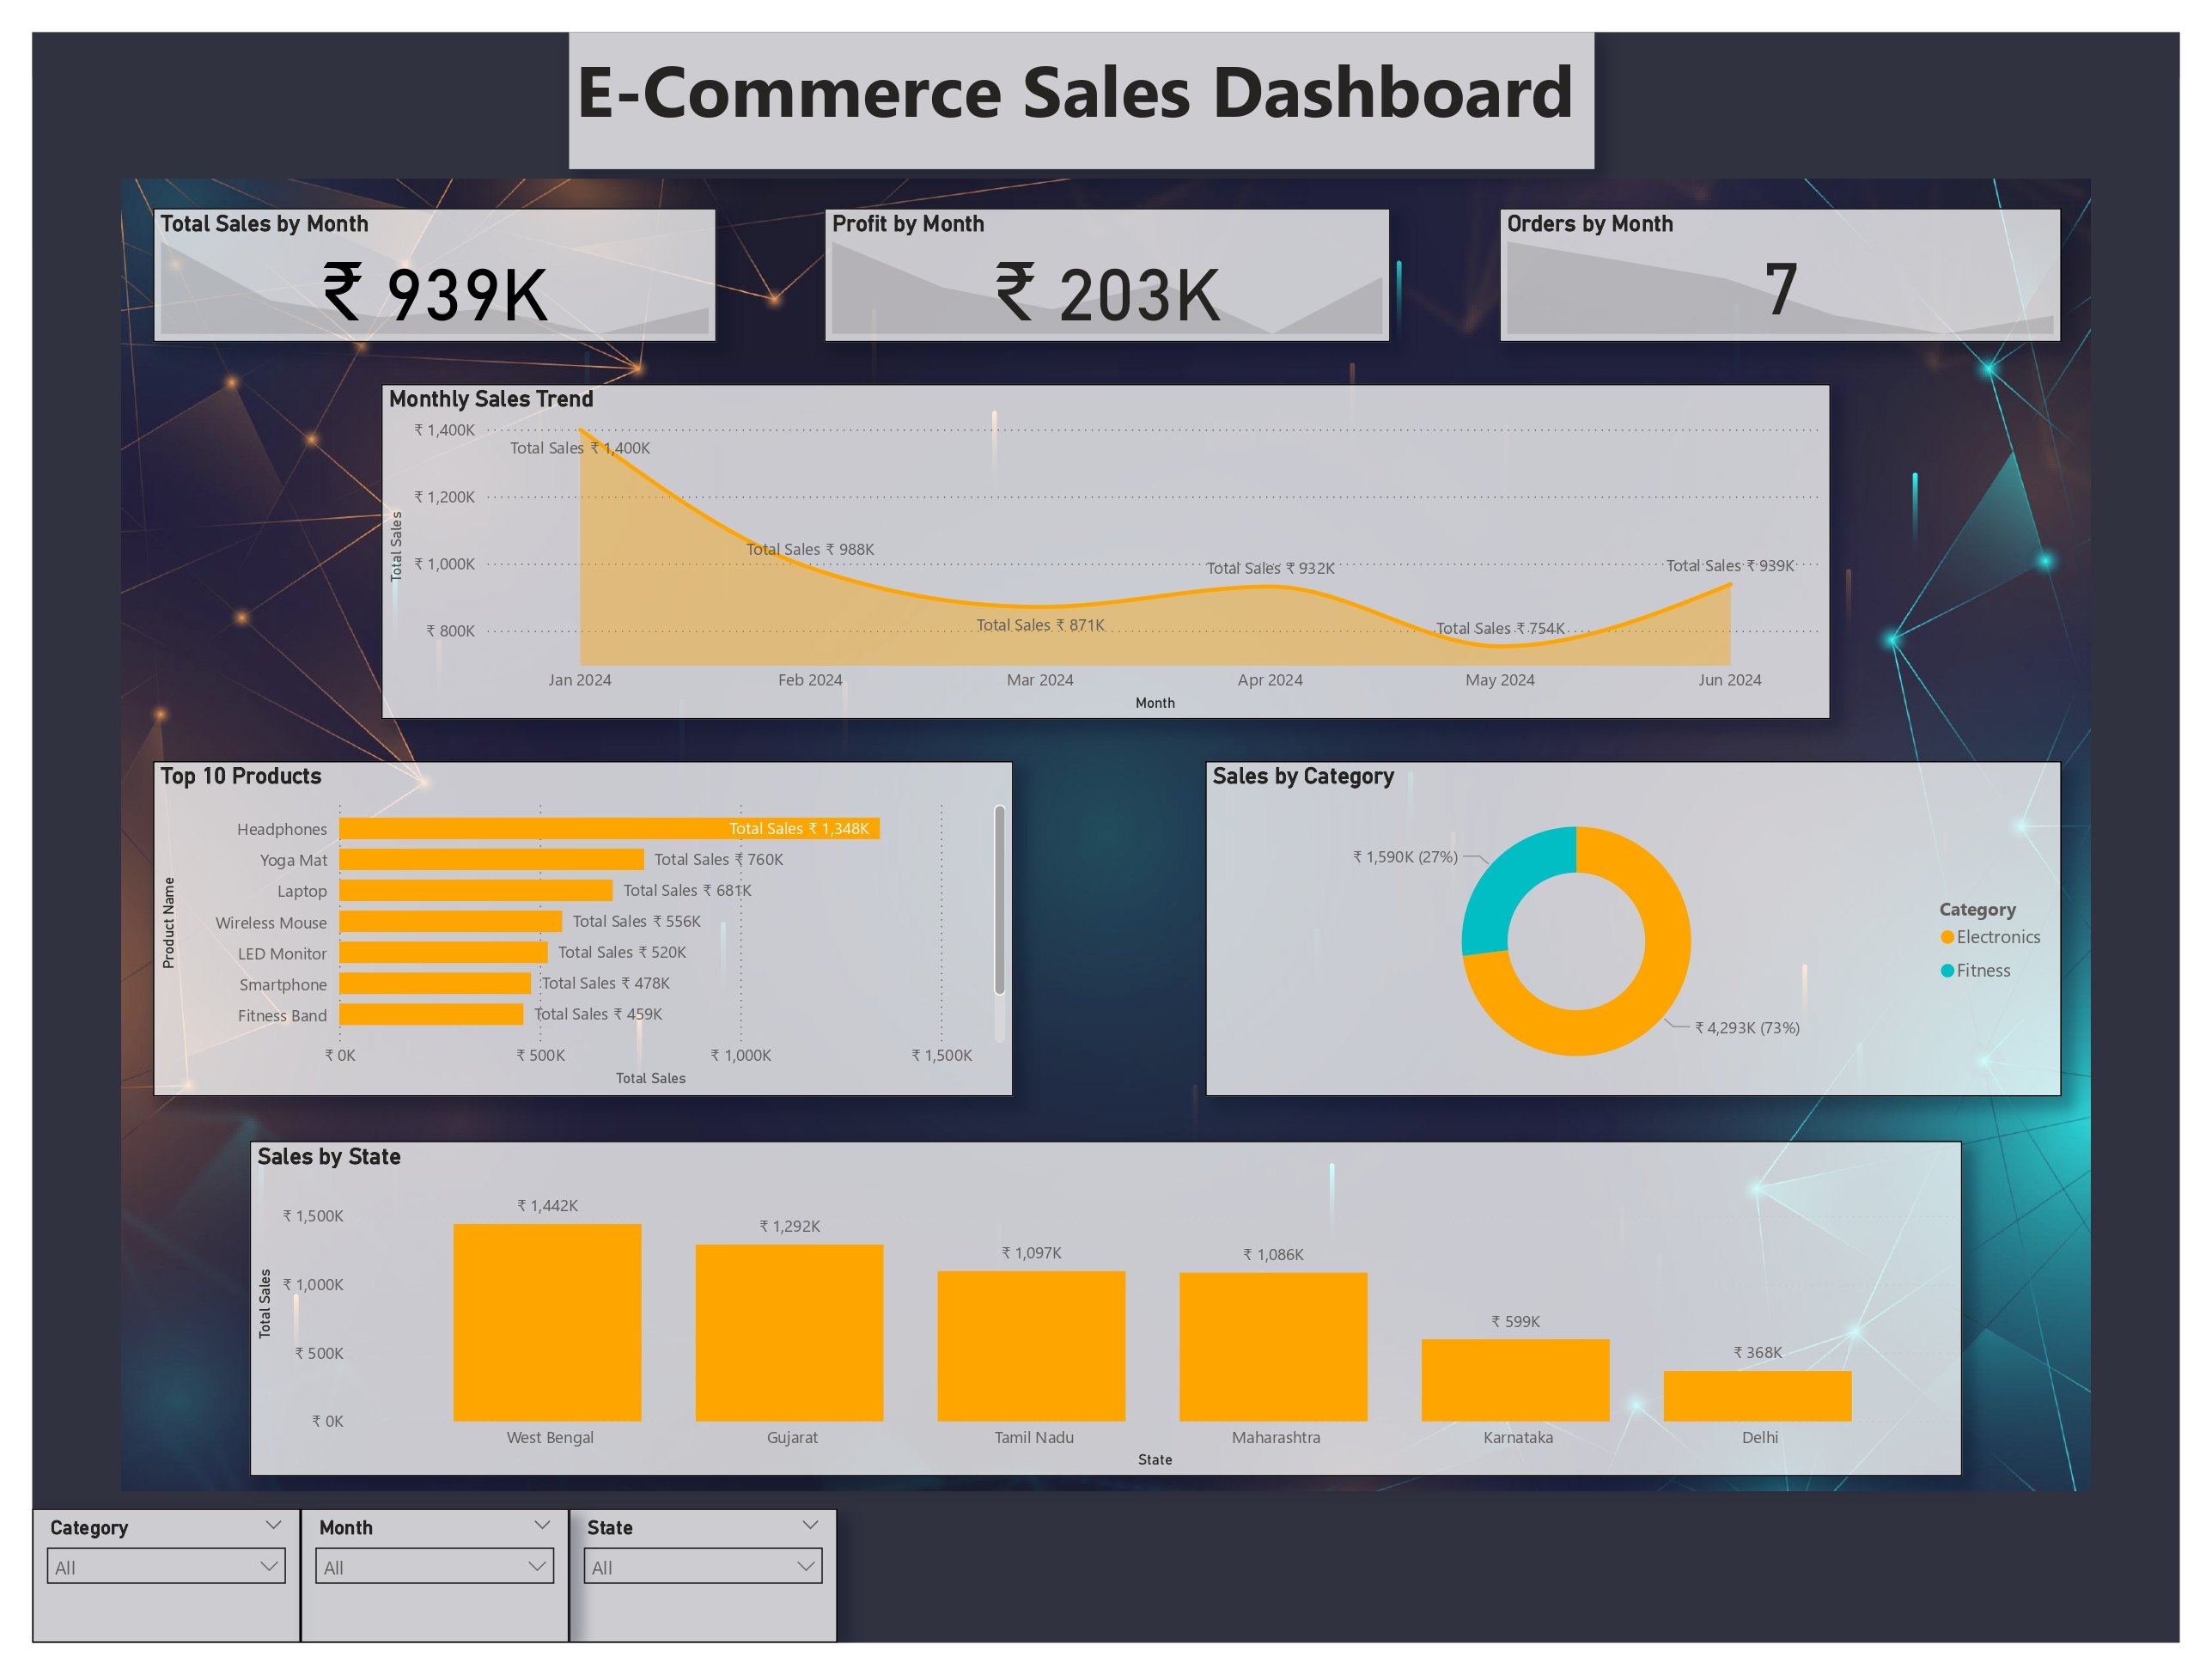

This screenshot's page, from the dashboard's own definition file:
{"tool":"powerbi","page":{"name":"Page 1","canvas":[1600,1200],"ordinal":0},"visuals":[{"type":"kpi","title":"Total Sales by Month","fields":{"Indicator":["Sum(Sheet1.Total Sales)"],"TrendLine":["Sheet1.Order Date.Variation.Date Hierarchy.Month"]},"box":[90.5,131,419,100],"z":0},{"type":"kpi","title":"Profit by Month","fields":{"Indicator":["Sum(Sheet1.Profit)"],"TrendLine":["Sheet1.Order Date.Variation.Date Hierarchy.Month"]},"box":[590.5,131,421.4,100],"z":1000},{"type":"kpi","title":"Orders by Month","fields":{"Indicator":["CountNonNull(Sheet1.Order ID)"],"TrendLine":["Sheet1.Order Date.Variation.Date Hierarchy.Month"]},"box":[1092.9,131,419,100],"z":2000},{"type":"lineChart","title":"Monthly Sales Trend","fields":{"Category":["Sheet1.MonthYear"],"Y":["Sum(Sheet1.Total Sales)"]},"box":[259.5,261.9,1081,250],"z":3000},{"type":"clusteredBarChart","title":"Top 10 Products","fields":{"Category":["Sheet.Product Name"],"Y":["Sum(Sheet.Total Sales)"]},"box":[90.5,542.9,640.5,250],"z":4000},{"type":"donutChart","title":"Sales by Category","fields":{"Category":["Sheet1.Category"],"Y":["Sum(Sheet.Total Sales)"]},"box":[873.8,542.9,638.1,250],"z":5000},{"type":"columnChart","title":"Sales by State","fields":{"Category":["Sheet.State"],"Y":["Sum(Sheet.Total Sales)"]},"box":[161.9,826.2,1276.2,250],"z":6000},{"type":"slicer","fields":{"Values":["Sheet1.Category"]},"box":[0,1100,200,100],"z":7000},{"type":"slicer","fields":{"Values":["Sheet.State"]},"box":[400,1100,200,100],"z":8000},{"type":"slicer","fields":{"Values":["Sheet1.MonthYear"]},"box":[200,1100,200,100],"z":9000},{"type":"textbox","box":[400,0,764.3,102.4],"z":10000}]}

Visuals, with their boxes in screenshot pixels (x1, y1, x2, y2):
"Total Sales by Month" kpi: left=154, top=208, right=716, bottom=342
"Profit by Month" kpi: left=825, top=208, right=1391, bottom=342
"Orders by Month" kpi: left=1499, top=208, right=2062, bottom=342
"Monthly Sales Trend" lineChart: left=381, top=384, right=1831, bottom=719
"Top 10 Products" clusteredBarChart: left=154, top=761, right=1014, bottom=1096
"Sales by Category" donutChart: left=1205, top=761, right=2062, bottom=1096
"Sales by State" columnChart: left=249, top=1141, right=1963, bottom=1477
slicer - Sheet1.Category: left=33, top=1508, right=301, bottom=1642
slicer - Sheet.State: left=569, top=1508, right=838, bottom=1642
slicer - Sheet1.MonthYear: left=301, top=1508, right=569, bottom=1642
textbox: left=569, top=33, right=1595, bottom=170
